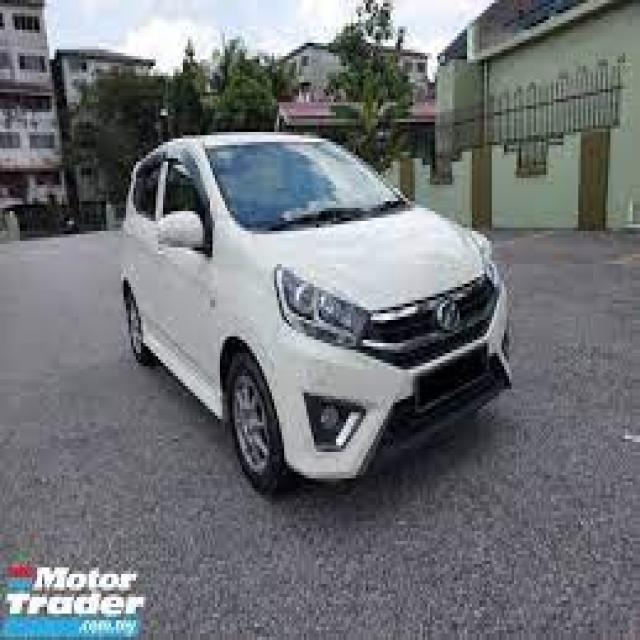PeroduaAxia: (116, 125, 514, 495)
